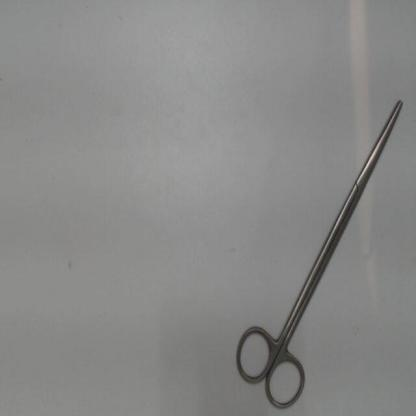9 Metzenbaum Scissors: (230, 95, 408, 414)
